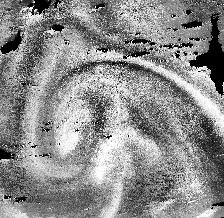CE: (37, 75, 108, 178)
